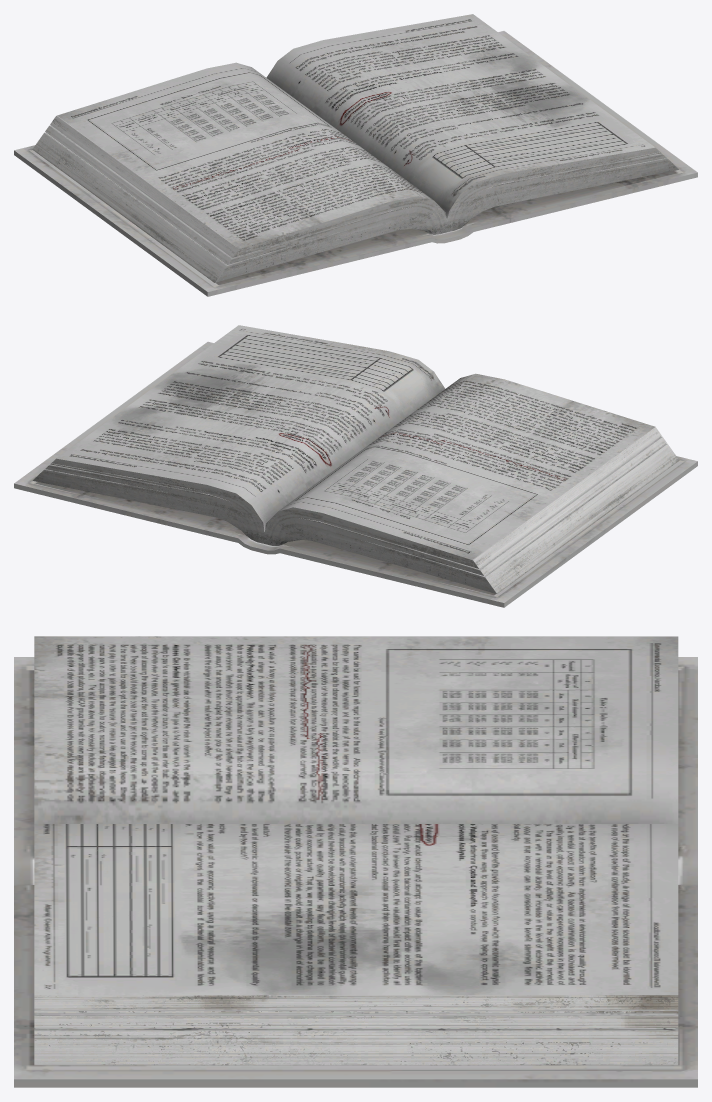
The model's file is book_economy_open.dae.
3 views of the same model, one above another, from view 1: azimuth 30°, elevation 25°; view 2: azimuth 150°, elevation 25°; view 3: azimuth 270°, elevation 25° (orthographic). The views are drawn at different scales.
Parts seen in each view (by area): view 1: book_economy_open; view 2: book_economy_open; view 3: book_economy_open.
Boxes of the visible parts, bbox=[...] form: book_economy_open: bbox=[14, 14, 697, 296]; book_economy_open: bbox=[14, 325, 697, 607]; book_economy_open: bbox=[14, 636, 697, 1087].
Bounding box in the file's own units: 0.3655 × 0.0351 × 0.2503.
